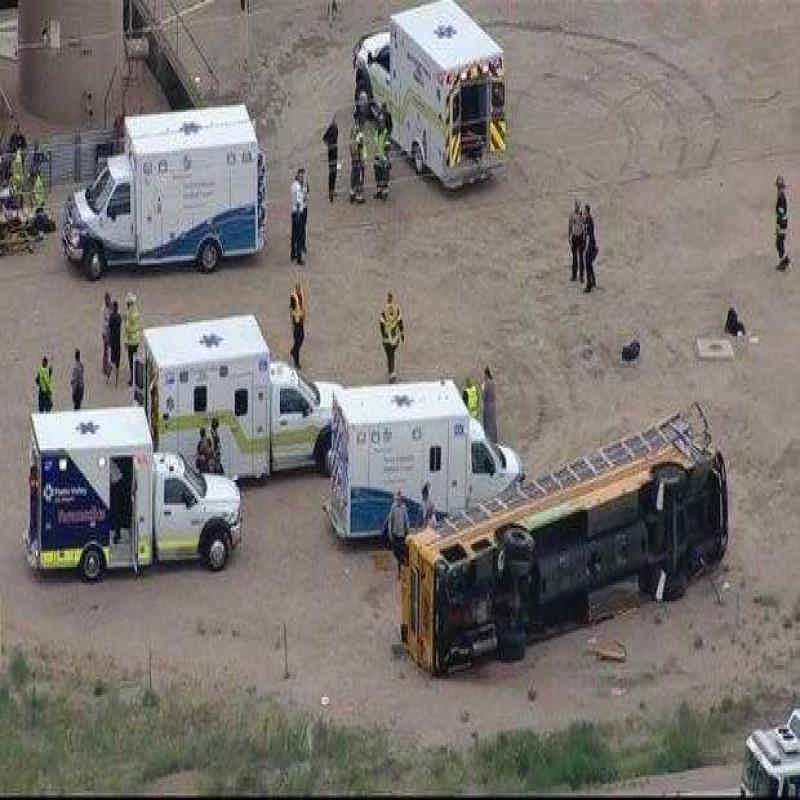bus: (394, 447, 734, 677)
